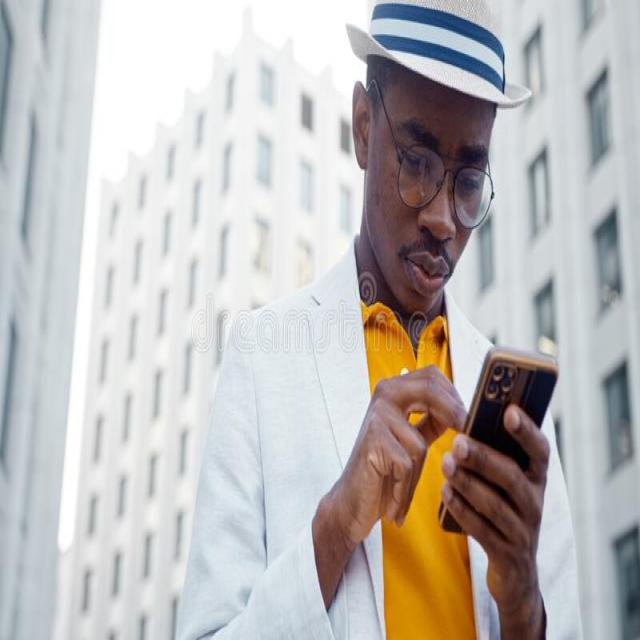hat: (357, 0, 538, 94)
